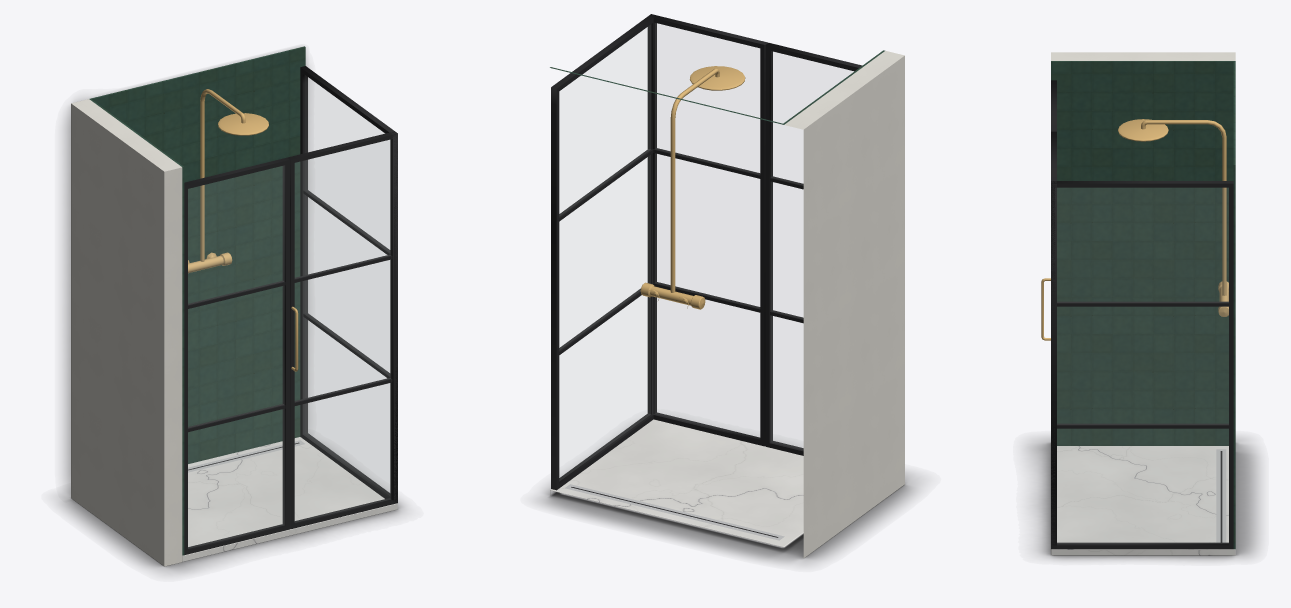
File: shower.glb
The picture shows the model from 3 angles, left to right: view 1: azimuth 30°, elevation 25°; view 2: azimuth 150°, elevation 25°; view 3: azimuth 270°, elevation 25°; orthographic projection. The views are drawn at different scales.
Parts seen in each view (by area): view 1: shower_LOD0, shower_Shadow; view 2: shower_LOD0, shower_Shadow; view 3: shower_LOD0, shower_Shadow.
Boxes of the visible parts, x1,y1,x2,y2 form: shower_LOD0: [71, 46, 397, 566]; shower_Shadow: [58, 47, 404, 572]; shower_LOD0: [550, 14, 904, 558]; shower_Shadow: [539, 472, 918, 563]; shower_LOD0: [1041, 52, 1235, 555]; shower_Shadow: [1027, 437, 1259, 560].
Size of what is drawn, in the model's own units: 1.7 by 2.38 by 1.35.
Materials: 9 (5 with a texture image).
